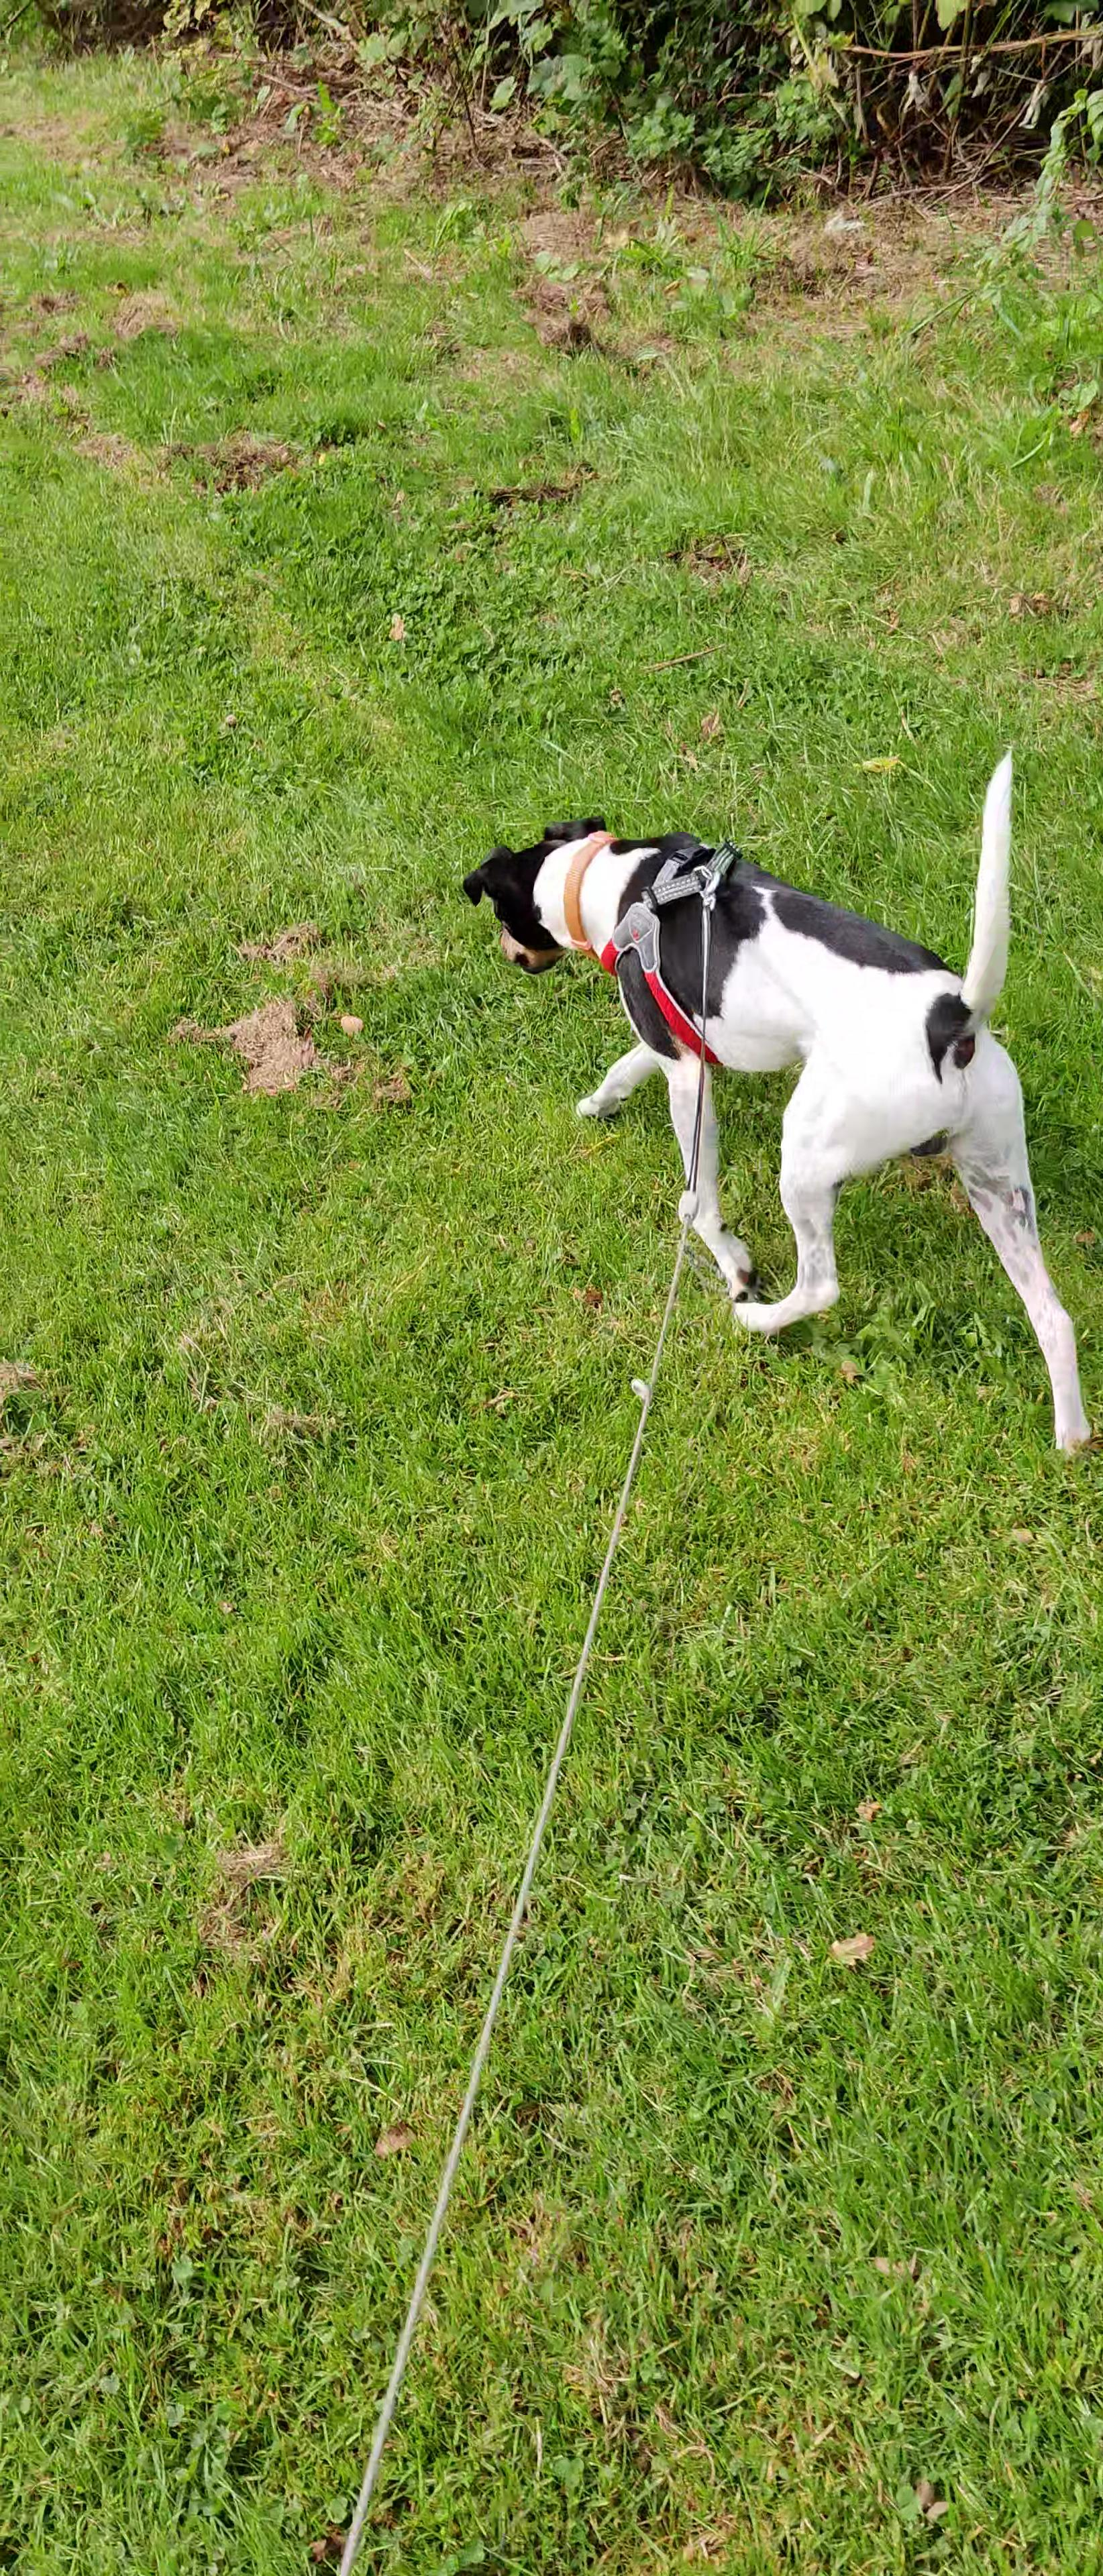Dog: (457, 710, 1100, 1479)
